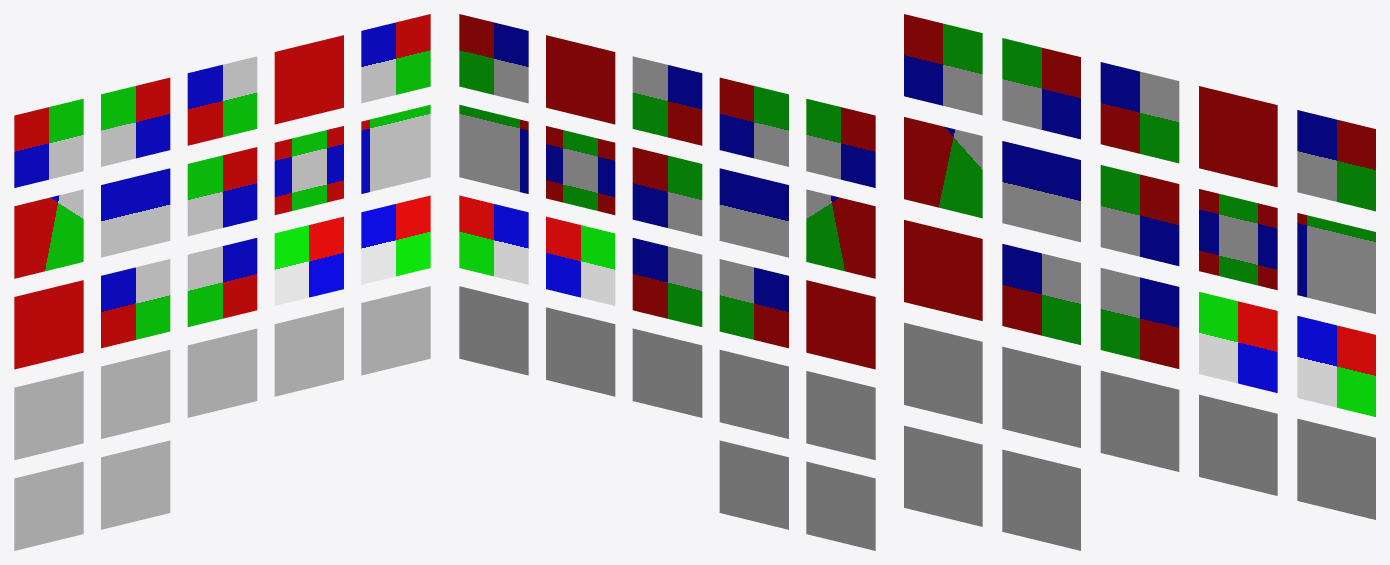
File: texture_transforms_reference.gltf
3 renders of one model, left to right at view 1: azimuth 30°, elevation 25°; view 2: azimuth 150°, elevation 25°; view 3: azimuth 330°, elevation 25°, orthographic. The views are drawn at different scales.
Size of the model in its own units: 6 by 6 by 0.
22 materials, 15 textured.
